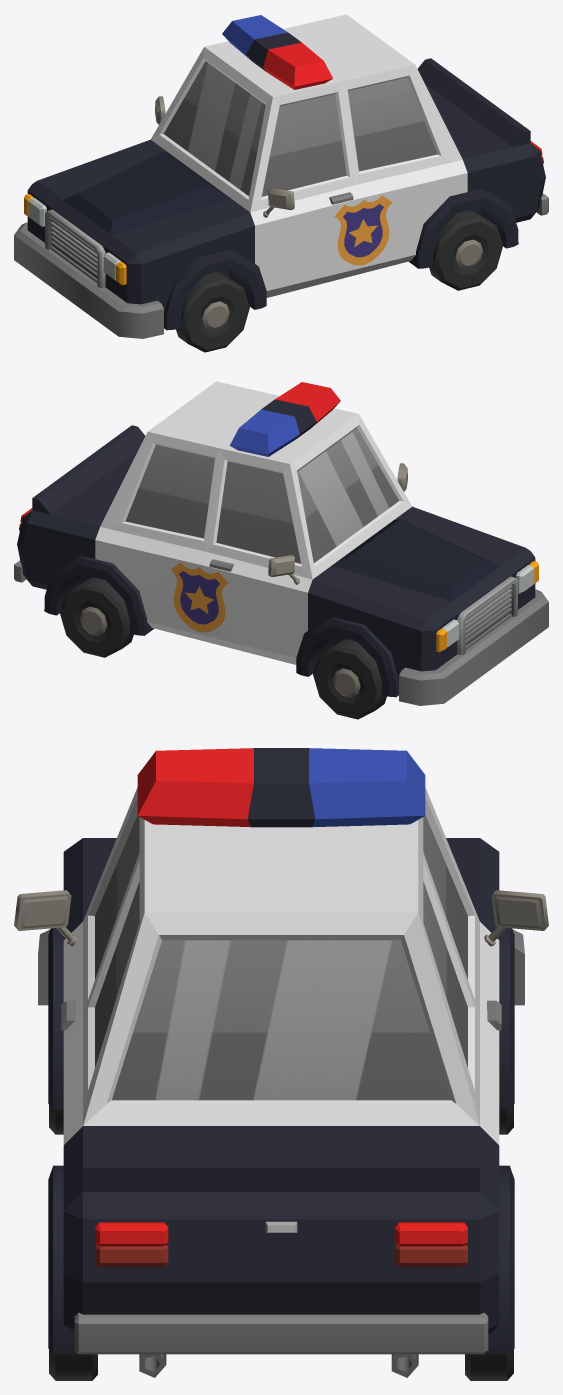
The model's file is Car_Police_2_A_1.fbx.
3 renders of one model, top to bottom at view 1: azimuth 30°, elevation 25°; view 2: azimuth 150°, elevation 25°; view 3: azimuth 270°, elevation 25°, orthographic. The views are drawn at different scales.
Visible parts, largest first — view 1: Car_Police_2_A_1, RL, FL; view 2: Car_Police_2_A_1, RR, FR; view 3: Car_Police_2_A_1, RL, RR.
Boxes of the visible parts, x1,y1,x2,y2 form: Car_Police_2_A_1: (14,14,548,338); RL: (429,210,503,290); FL: (176,272,249,352); Car_Police_2_A_1: (14,381,548,705); RR: (59,577,133,657); FR: (313,639,386,719); Car_Police_2_A_1: (14,748,548,1377); RL: (49,1349,97,1380); RR: (465,1349,513,1380).
Size of the model in its own units: 3.31 by 1.75 by 1.78.
